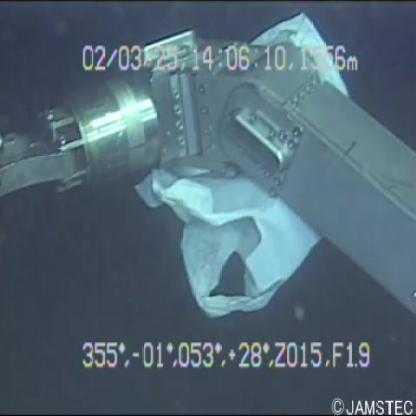Rov: (1, 22, 415, 326)
Rác: (132, 10, 357, 325)
